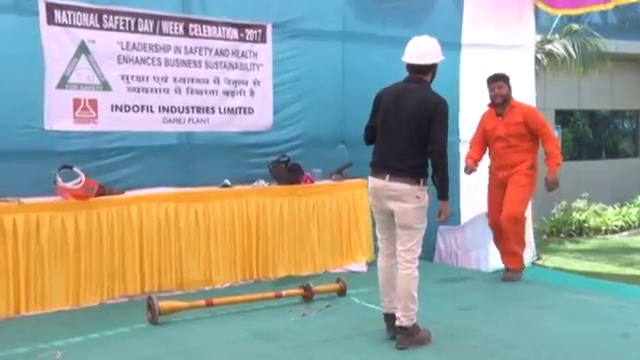helmet: (400, 34, 448, 65)
helmet_off: (485, 71, 511, 105)
helmet_on: (400, 33, 448, 84)
person: (364, 34, 450, 348), (463, 70, 564, 278)
